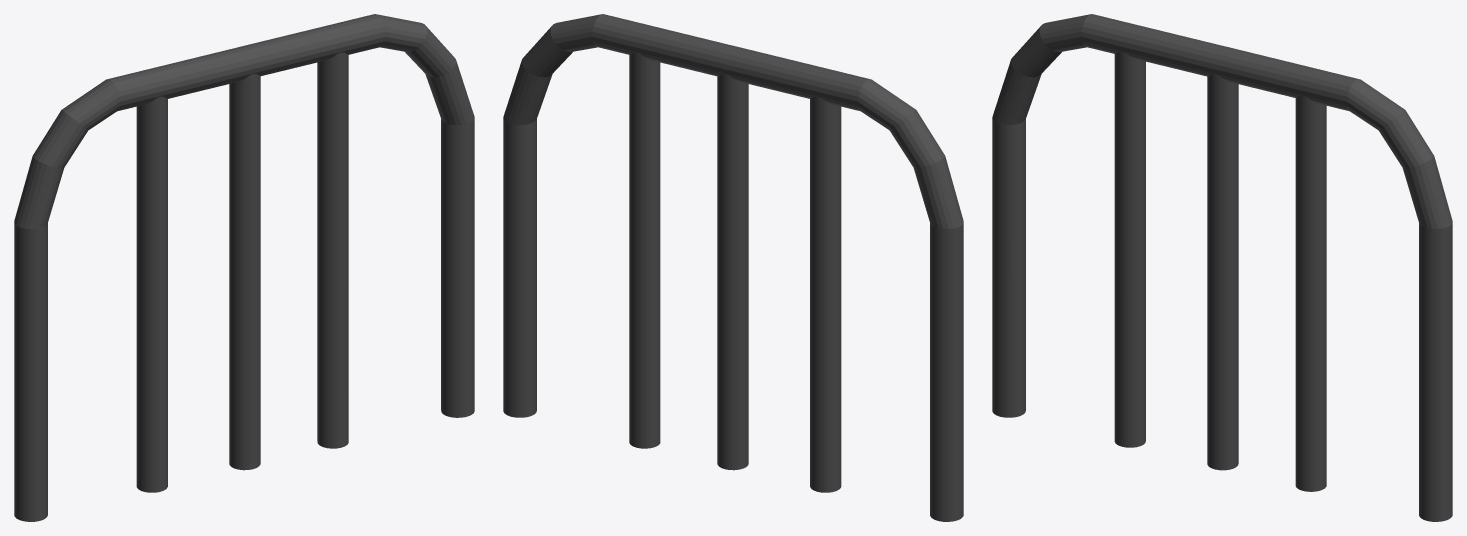
File: IE_fence.fbx
3 renders of one model, left to right at view 1: azimuth 30°, elevation 25°; view 2: azimuth 150°, elevation 25°; view 3: azimuth 330°, elevation 25°, orthographic.
Visible parts, largest first — view 1: pCylinder7; view 2: pCylinder7; view 3: pCylinder7.
Boxes of the visible parts, bbox=[...] form: pCylinder7: bbox=[14, 14, 474, 521]; pCylinder7: bbox=[503, 14, 963, 521]; pCylinder7: bbox=[992, 14, 1452, 521].
Size of the model in its own units: 77.97 by 67.95 by 5.05.
